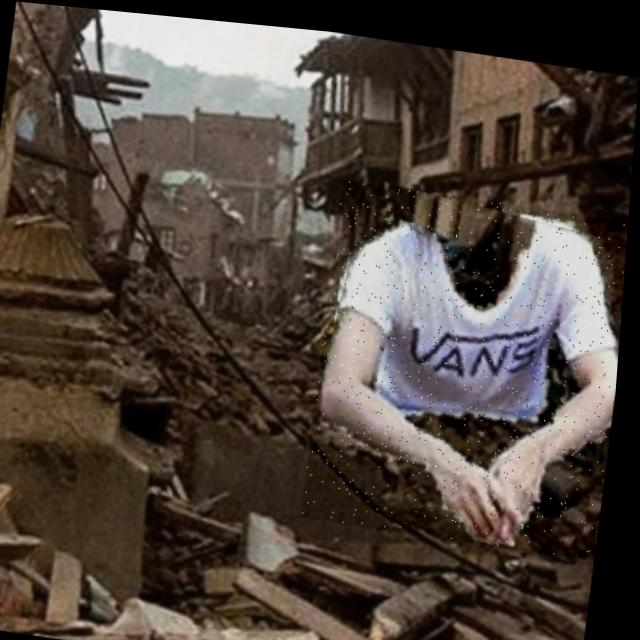Person in Rubble: (307, 170, 632, 548)
